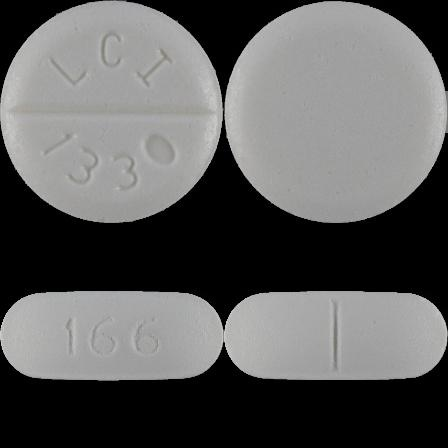63187-313: (0, 0, 224, 224)
